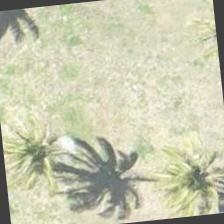Kelapa_Sawit: (1, 114, 90, 212), (173, 144, 223, 218)
